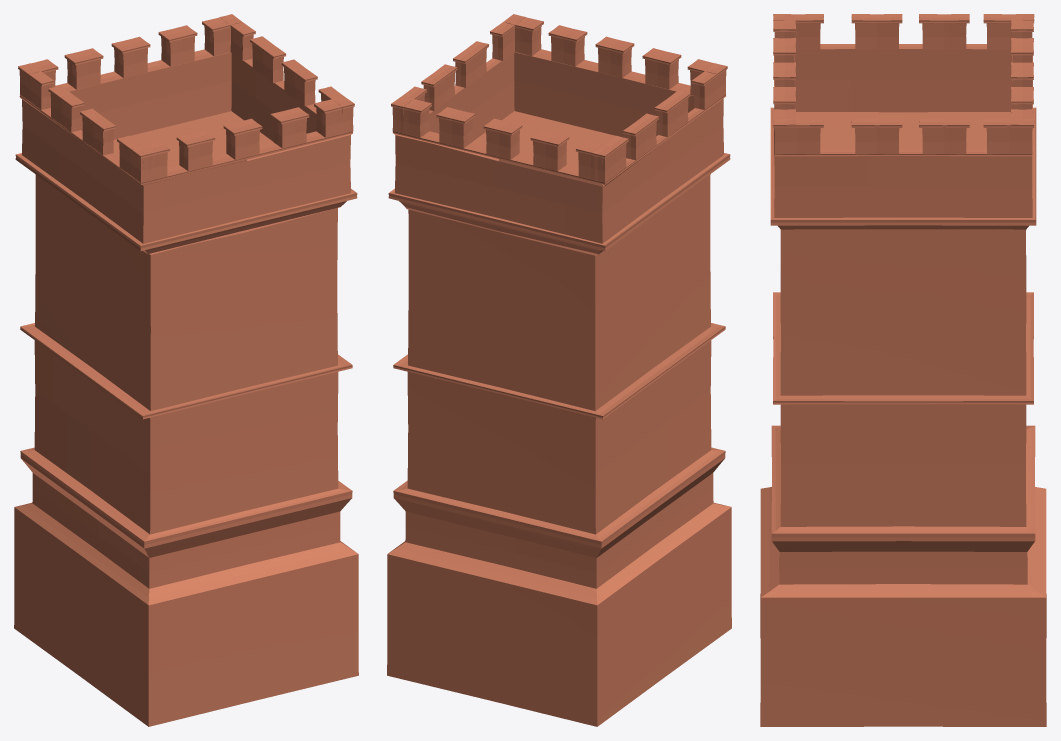
The model's file is bronzeTower.glb.
3 views of the same model, side by side, from view 1: azimuth 30°, elevation 25°; view 2: azimuth 150°, elevation 25°; view 3: azimuth 270°, elevation 25° (orthographic). The views are drawn at different scales.
Visible parts, largest first — view 1: Cube; view 2: Cube; view 3: Cube.
Boxes of the visible parts, x1,y1,x2,y2 form: Cube: (14,14,358,726); Cube: (387,14,731,726); Cube: (760,14,1046,726).
Size of the model in its own units: 3.98 by 9.95 by 4.28.
